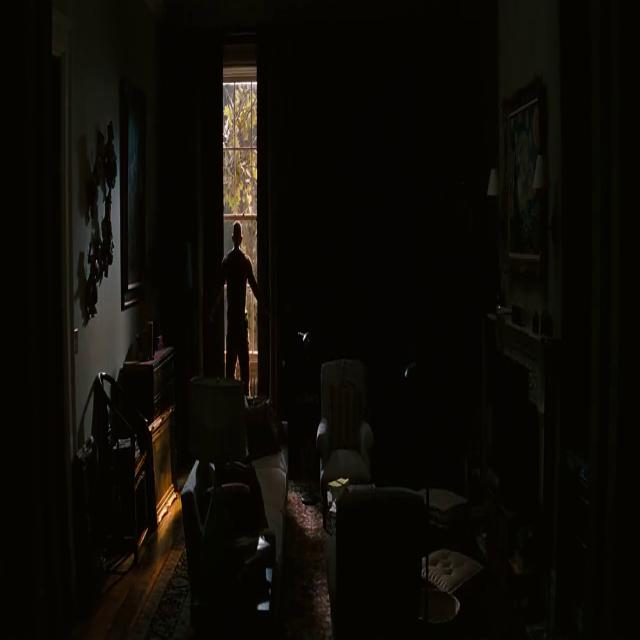People: (211, 212, 265, 375)
Table: (80, 355, 184, 585)
chair: (163, 379, 291, 640), (324, 475, 424, 640), (318, 328, 365, 483), (437, 516, 476, 635)
